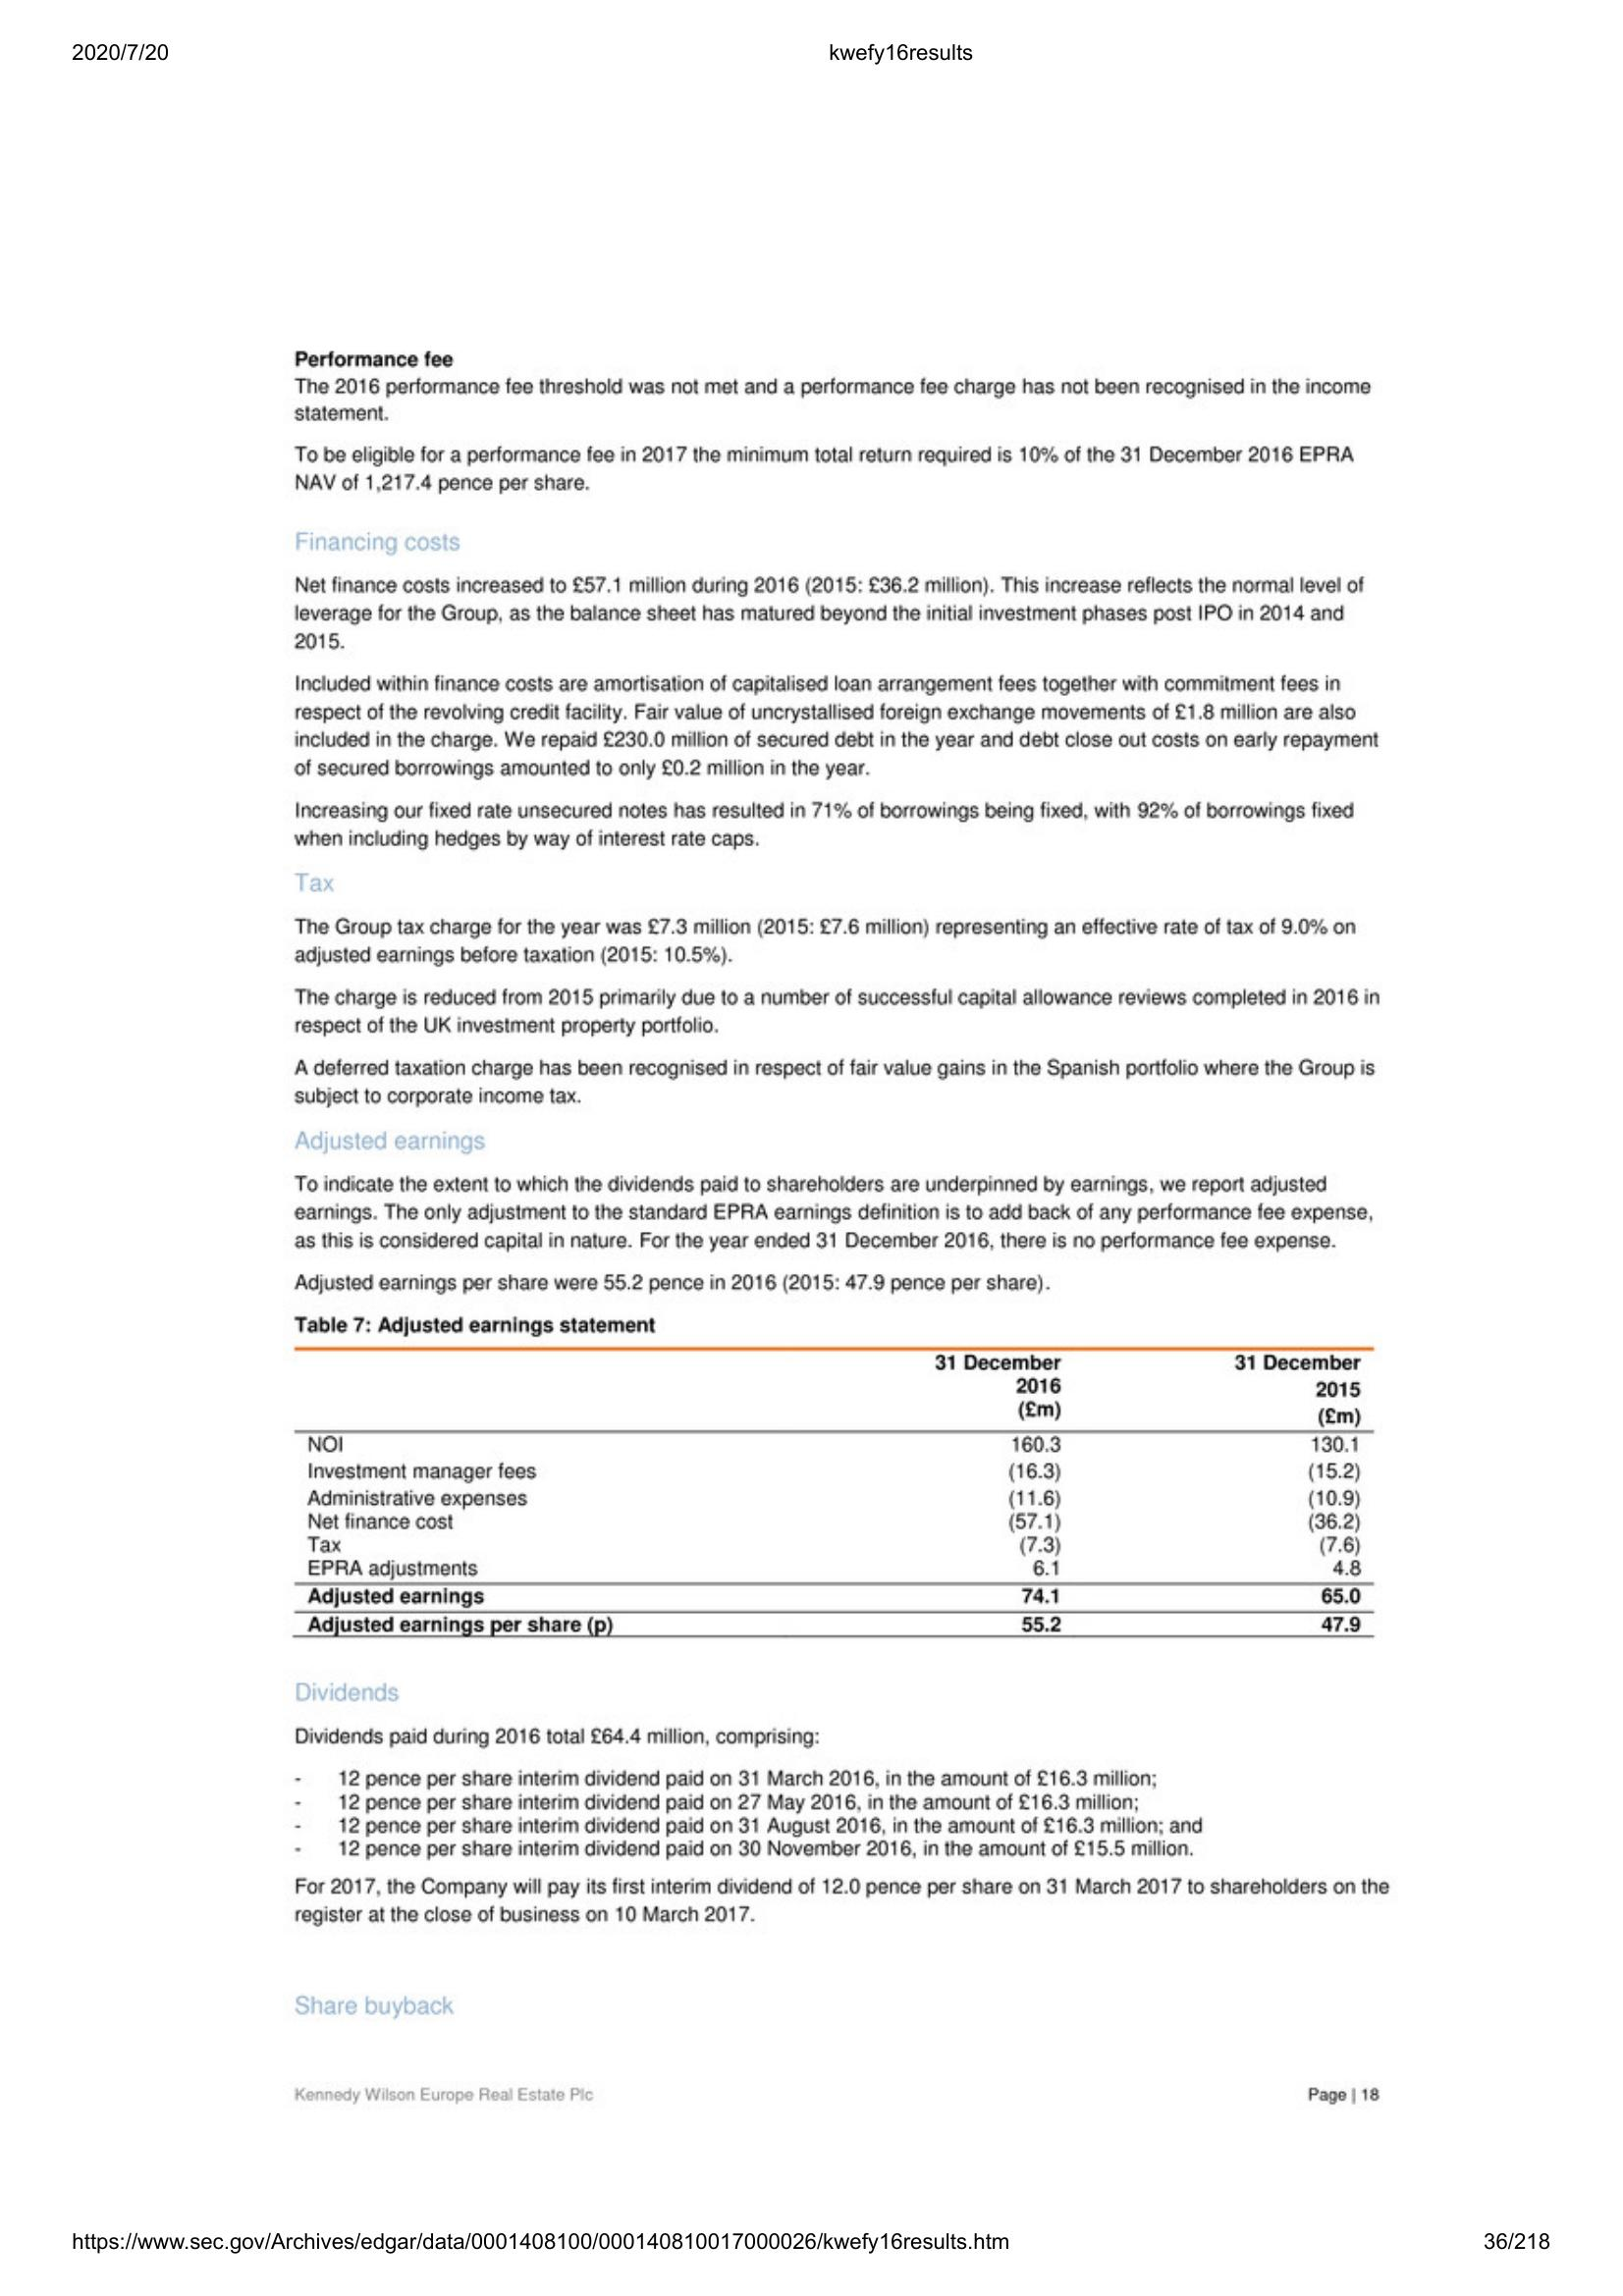table: (297, 1338, 1381, 1647)
